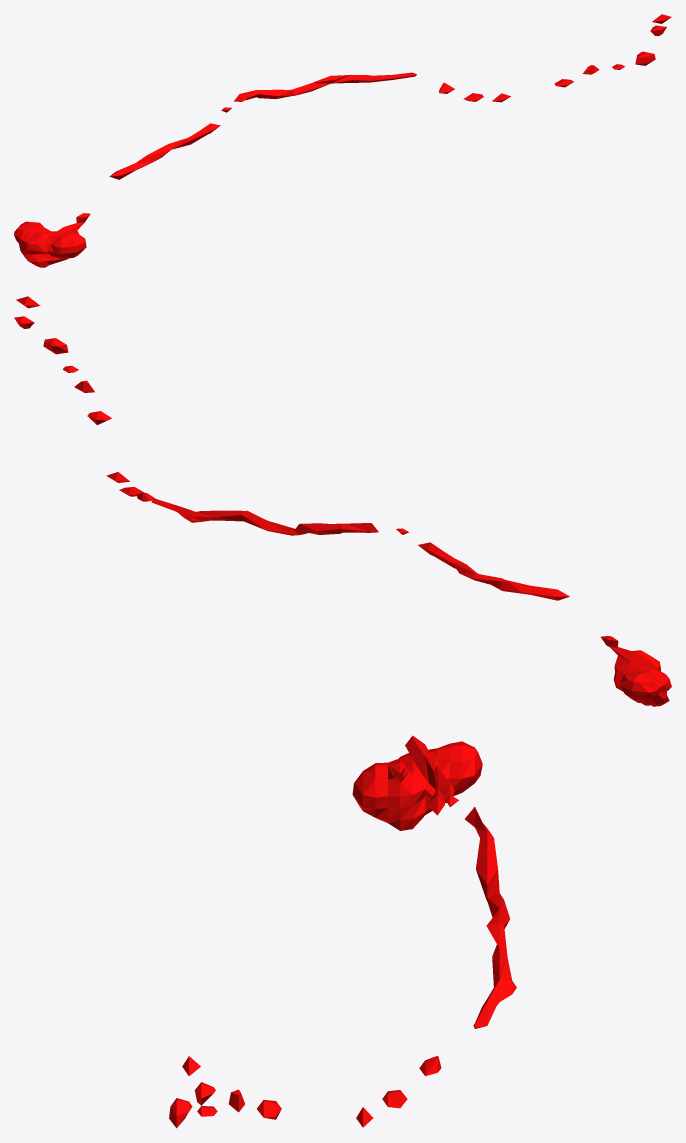
Rendered from dhaM_coarse.dae.
3 views of the same model, one above another, from view 1: azimuth 30°, elevation 25°; view 2: azimuth 150°, elevation 25°; view 3: azimuth 270°, elevation 25° (orthographic). The views are drawn at different scales.
Parts seen in each view (by area): view 1: dhaM; view 2: dhaM; view 3: dhaM.
Boxes of the visible parts, left/top/right/bottom form: dhaM: left=14, top=14, right=671, bottom=267; dhaM: left=14, top=296, right=671, bottom=706; dhaM: left=169, top=735, right=516, bottom=1128.
Size of the model in its own units: 664 by 167 by 170.
